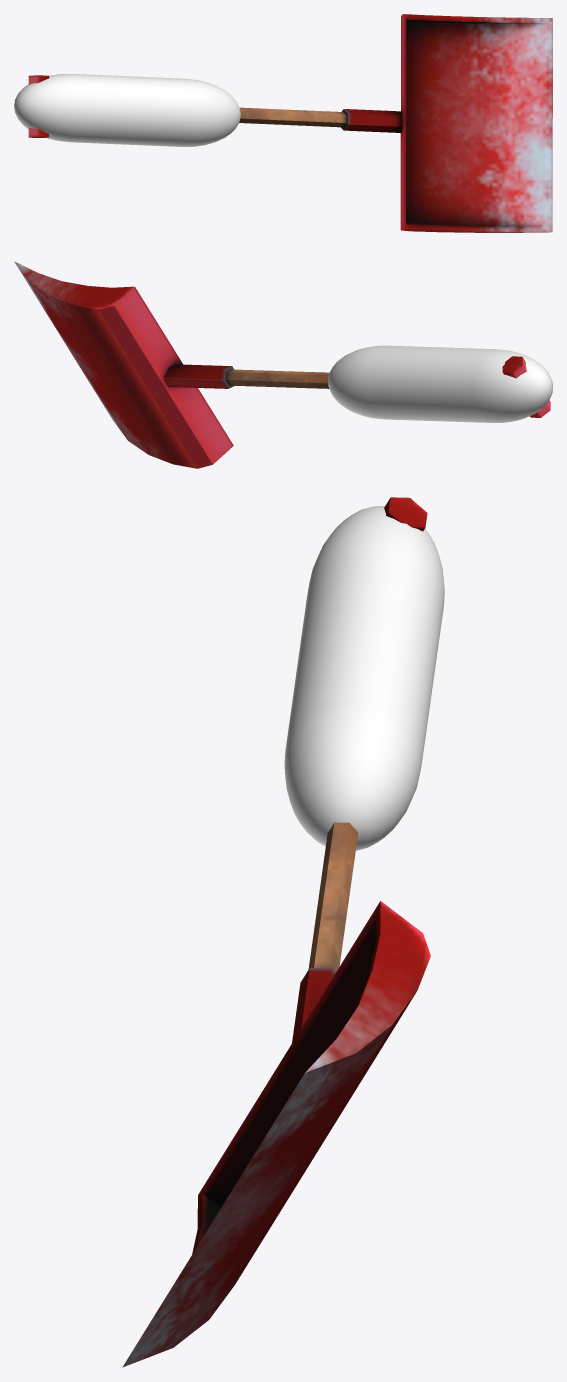
File: SnowShovelAnchor.fbx
3 views of the same model, one above another, from view 1: azimuth 30°, elevation 25°; view 2: azimuth 150°, elevation 25°; view 3: azimuth 270°, elevation 25° (orthographic). The views are drawn at different scales.
Parts seen in each view (by area): view 1: LMACR_, Capsule; view 2: LMACR_, Capsule; view 3: LMACR_, Capsule.
Part boxes in pixels (x1,y1,x2,y2): LMACR_: [28, 14, 552, 232]; Capsule: [14, 74, 240, 146]; LMACR_: [14, 261, 550, 468]; Capsule: [328, 345, 552, 422]; LMACR_: [122, 497, 430, 1367]; Capsule: [284, 506, 444, 850].
Bounding box in the file's own units: 109 × 44.27 × 29.36.
